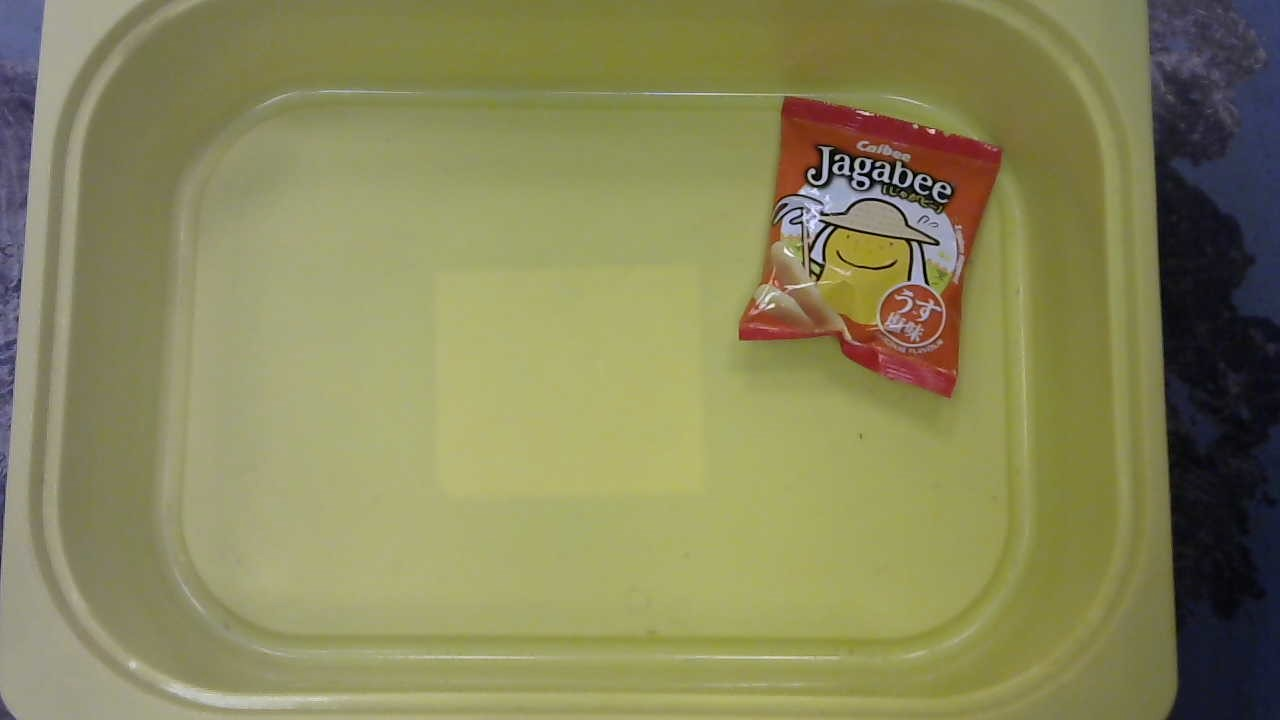JagabeeFarmer: (728, 89, 1011, 409)
